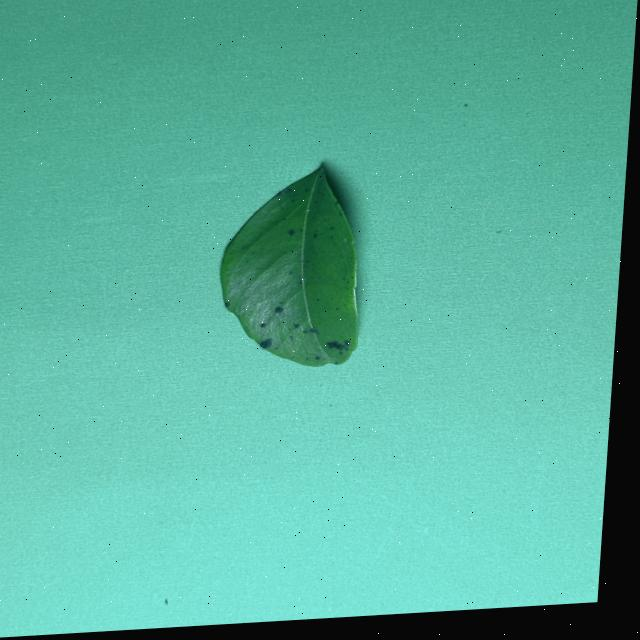sooty_mold: (220, 168, 358, 366)
